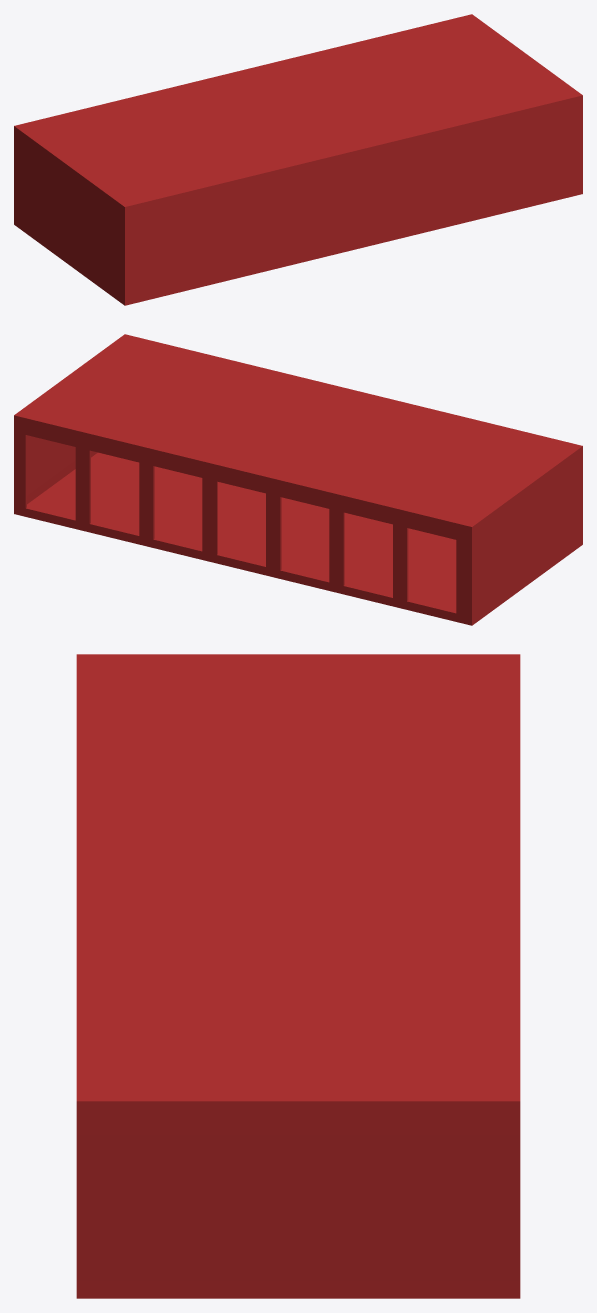
Rendered from SM_Shadowbox.fbx.
The picture shows the model from 3 angles, top to bottom: view 1: azimuth 30°, elevation 25°; view 2: azimuth 150°, elevation 25°; view 3: azimuth 270°, elevation 25°; orthographic projection. The views are drawn at different scales.
Visible parts, largest first — view 1: SM_Shadowbox; view 2: SM_Shadowbox; view 3: SM_Shadowbox.
Part boxes in pixels (bbox=[...]): SM_Shadowbox: bbox=[14, 14, 582, 305]; SM_Shadowbox: bbox=[14, 334, 582, 625]; SM_Shadowbox: bbox=[76, 654, 520, 1298].
Size of the model in its own units: 1984 by 408 by 832.
